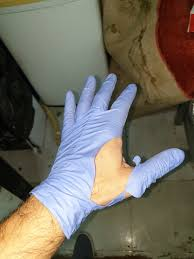defected: (36, 77, 194, 219)
